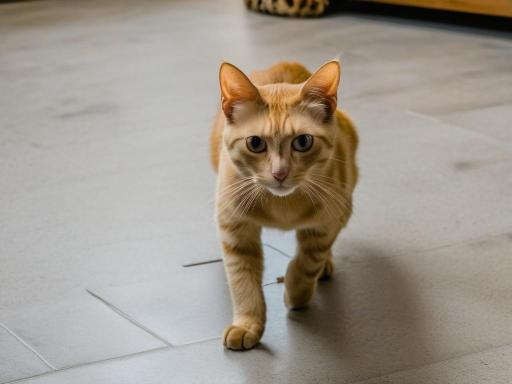cat_standing: (211, 60, 358, 350)
